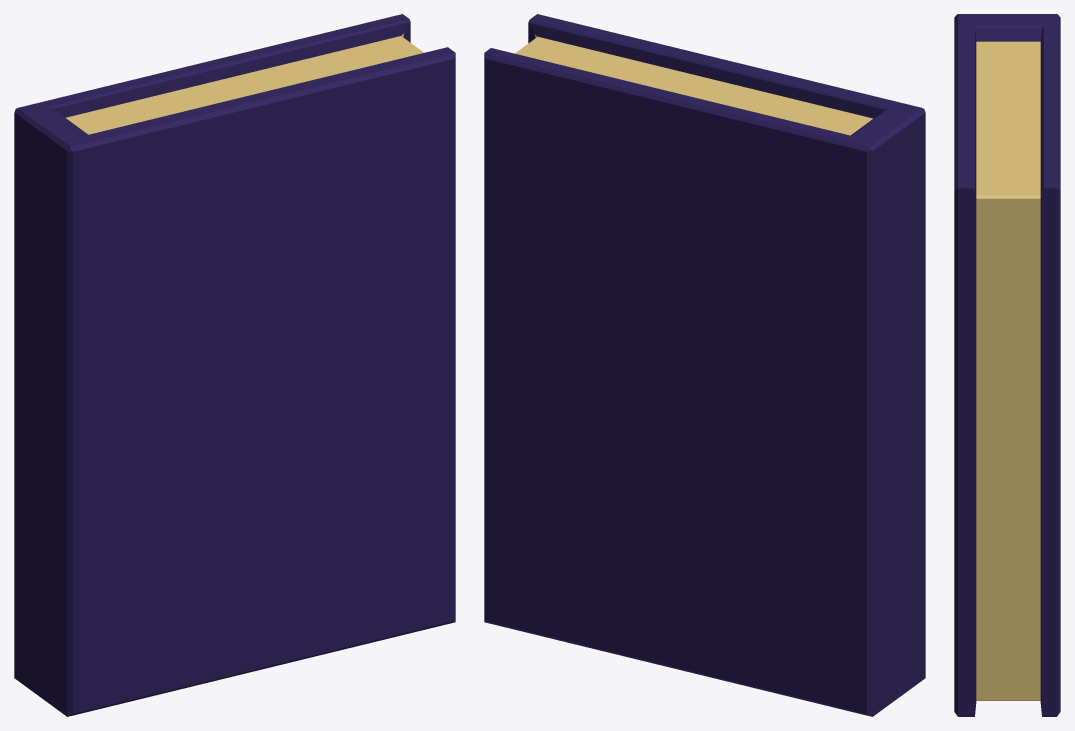
The model's file is libro 1.fbx.
The picture shows the model from 3 angles, left to right: view 1: azimuth 30°, elevation 25°; view 2: azimuth 150°, elevation 25°; view 3: azimuth 270°, elevation 25°; orthographic projection. The views are drawn at different scales.
Visible parts, largest first — view 1: Cube.001; view 2: Cube.001; view 3: Cube.001.
Boxes of the visible parts, x1,y1,x2,y2 form: Cube.001: [14, 14, 455, 716]; Cube.001: [484, 14, 925, 716]; Cube.001: [954, 14, 1060, 716].
Size of the model in its own units: 63.83 by 89.39 by 16.25.
